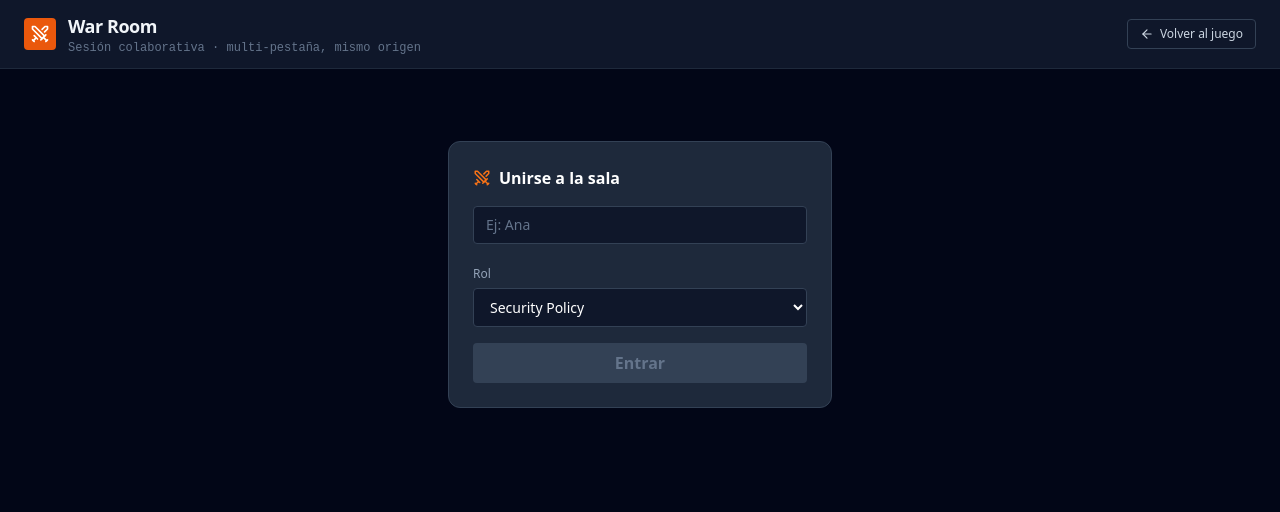
Test: WarRoom — permisos por rol › el rol nat puede editar NAT pero no App
Type "Ana" into the field named "tu nombre" at (640, 225), box [473,206,807,244]
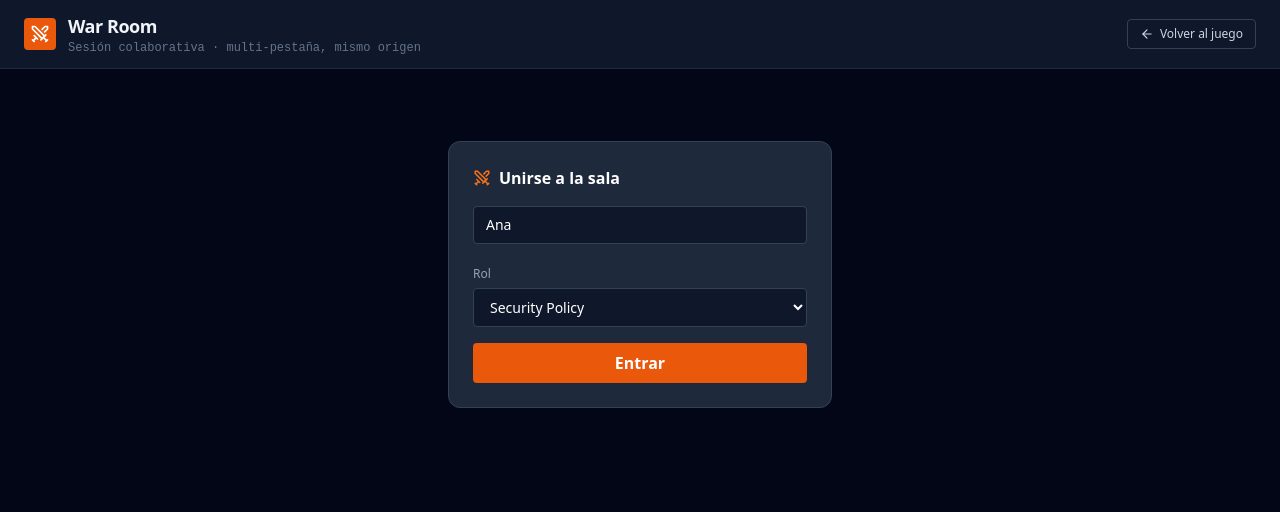
Select "NAT" in the dropdown named "rol" at (640, 308), box [473,288,807,327]
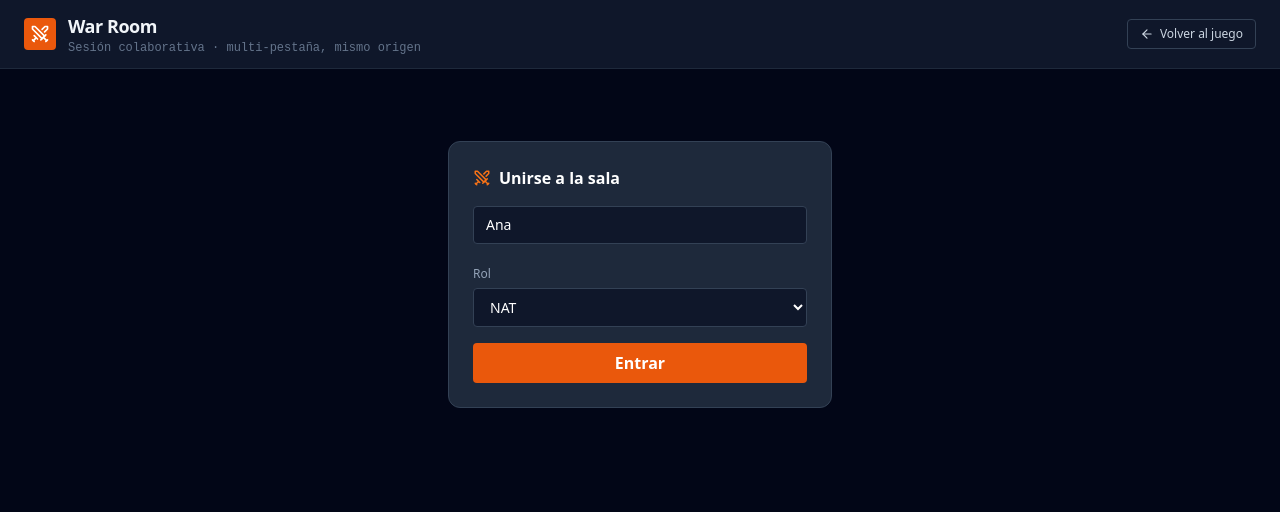
Click the button "Entrar" at (640, 363), box [473,343,807,383]
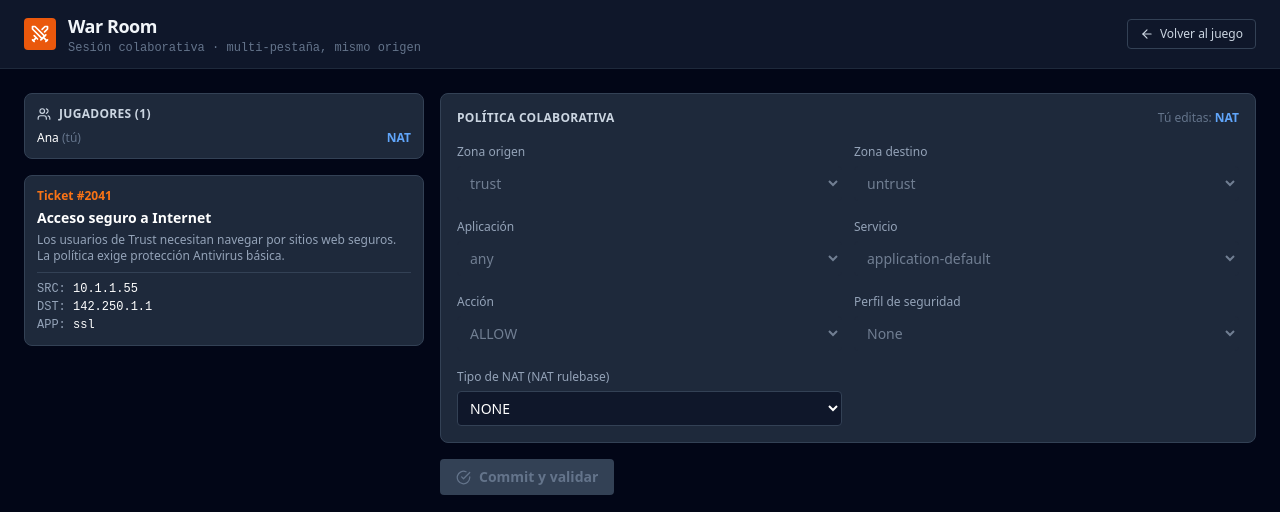
Check: the dropdown labelled "Tipo de NAT (NAT rulebase)" is enabled, box [457,391,842,426]
Check: the dropdown labelled "Aplicación" is disabled, box [457,241,842,276]
